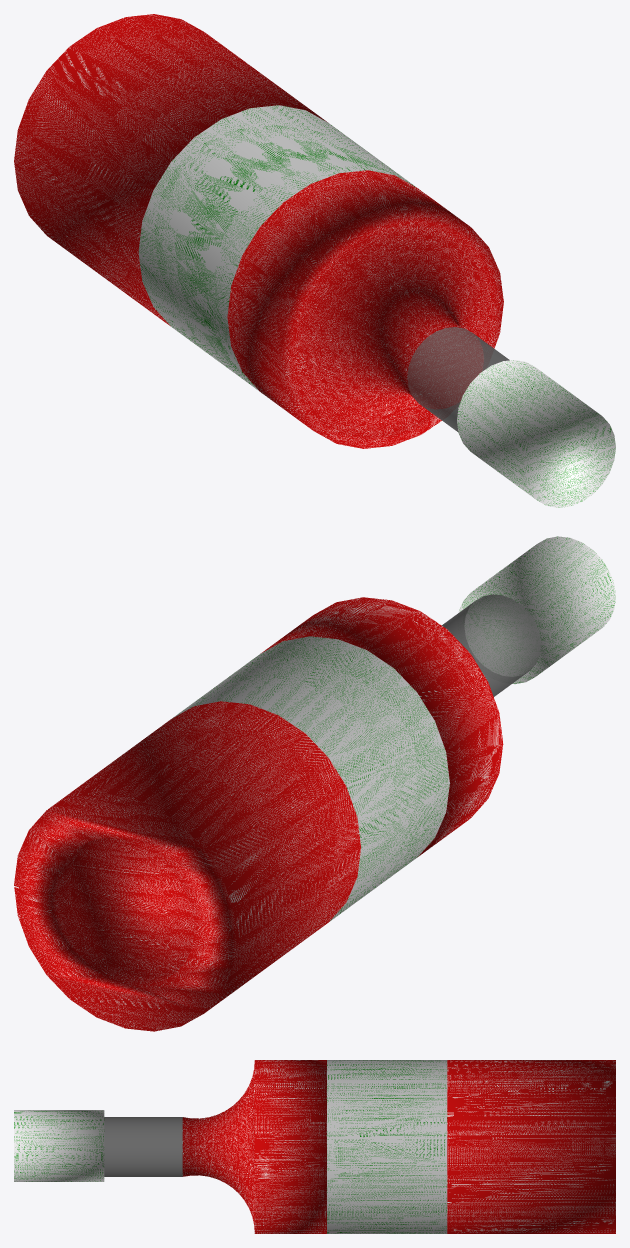
File: model_align.obj
3 views of the same model, one above another, from view 1: azimuth 30°, elevation 25°; view 2: azimuth 150°, elevation 25°; view 3: azimuth 270°, elevation 25° (orthographic). The views are drawn at different scales.
Parts seen in each view (by area): view 1: mesh2_mesh2-geometry, mesh1_mesh1-geometry, mesh3_mesh3-geometry, mesh4_mesh4-geometry; view 2: mesh1_mesh1-geometry, mesh3_mesh3-geometry, mesh2_mesh2-geometry, mesh4_mesh4-geometry; view 3: mesh1_mesh1-geometry, mesh2_mesh2-geometry, mesh3_mesh3-geometry, mesh4_mesh4-geometry.
Boxes of the visible parts, bbox=[...] form: mesh2_mesh2-geometry: bbox=[227, 170, 509, 448]; mesh1_mesh1-geometry: bbox=[14, 14, 327, 326]; mesh3_mesh3-geometry: bbox=[138, 105, 416, 390]; mesh4_mesh4-geometry: bbox=[457, 360, 615, 507]; mesh1_mesh1-geometry: bbox=[14, 701, 360, 1031]; mesh3_mesh3-geometry: bbox=[172, 636, 449, 921]; mesh2_mesh2-geometry: bbox=[260, 594, 541, 857]; mesh4_mesh4-geometry: bbox=[458, 536, 615, 684]; mesh1_mesh1-geometry: bbox=[447, 1060, 615, 1233]; mesh2_mesh2-geometry: bbox=[104, 1060, 326, 1233]; mesh3_mesh3-geometry: bbox=[327, 1060, 447, 1233]; mesh4_mesh4-geometry: bbox=[14, 1110, 104, 1181].
Size of the model in its own units: 0.0805 by 0.0805 by 0.2778.
